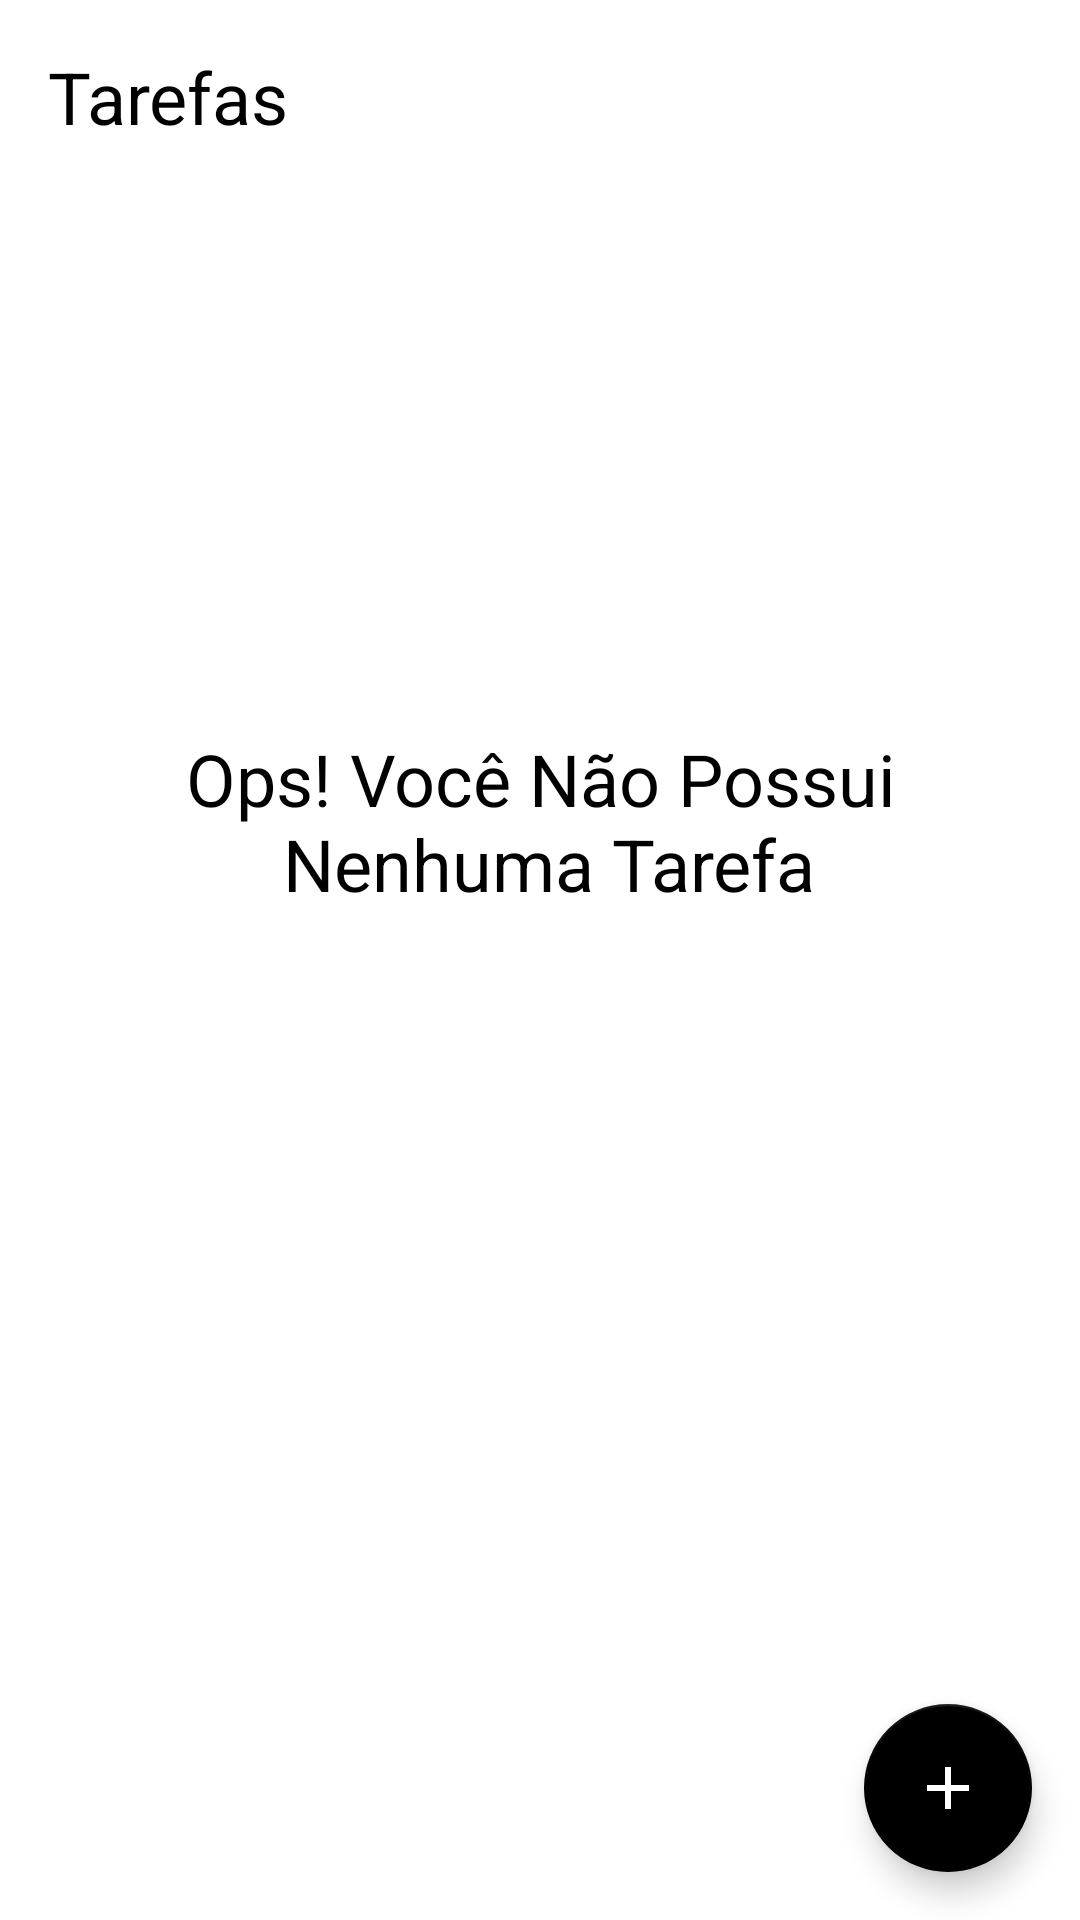

Where to tap for icons on this 1080w x 1920h app screen, as (x=x, y=y):
Nova tarefa: (x=948, y=1788)
